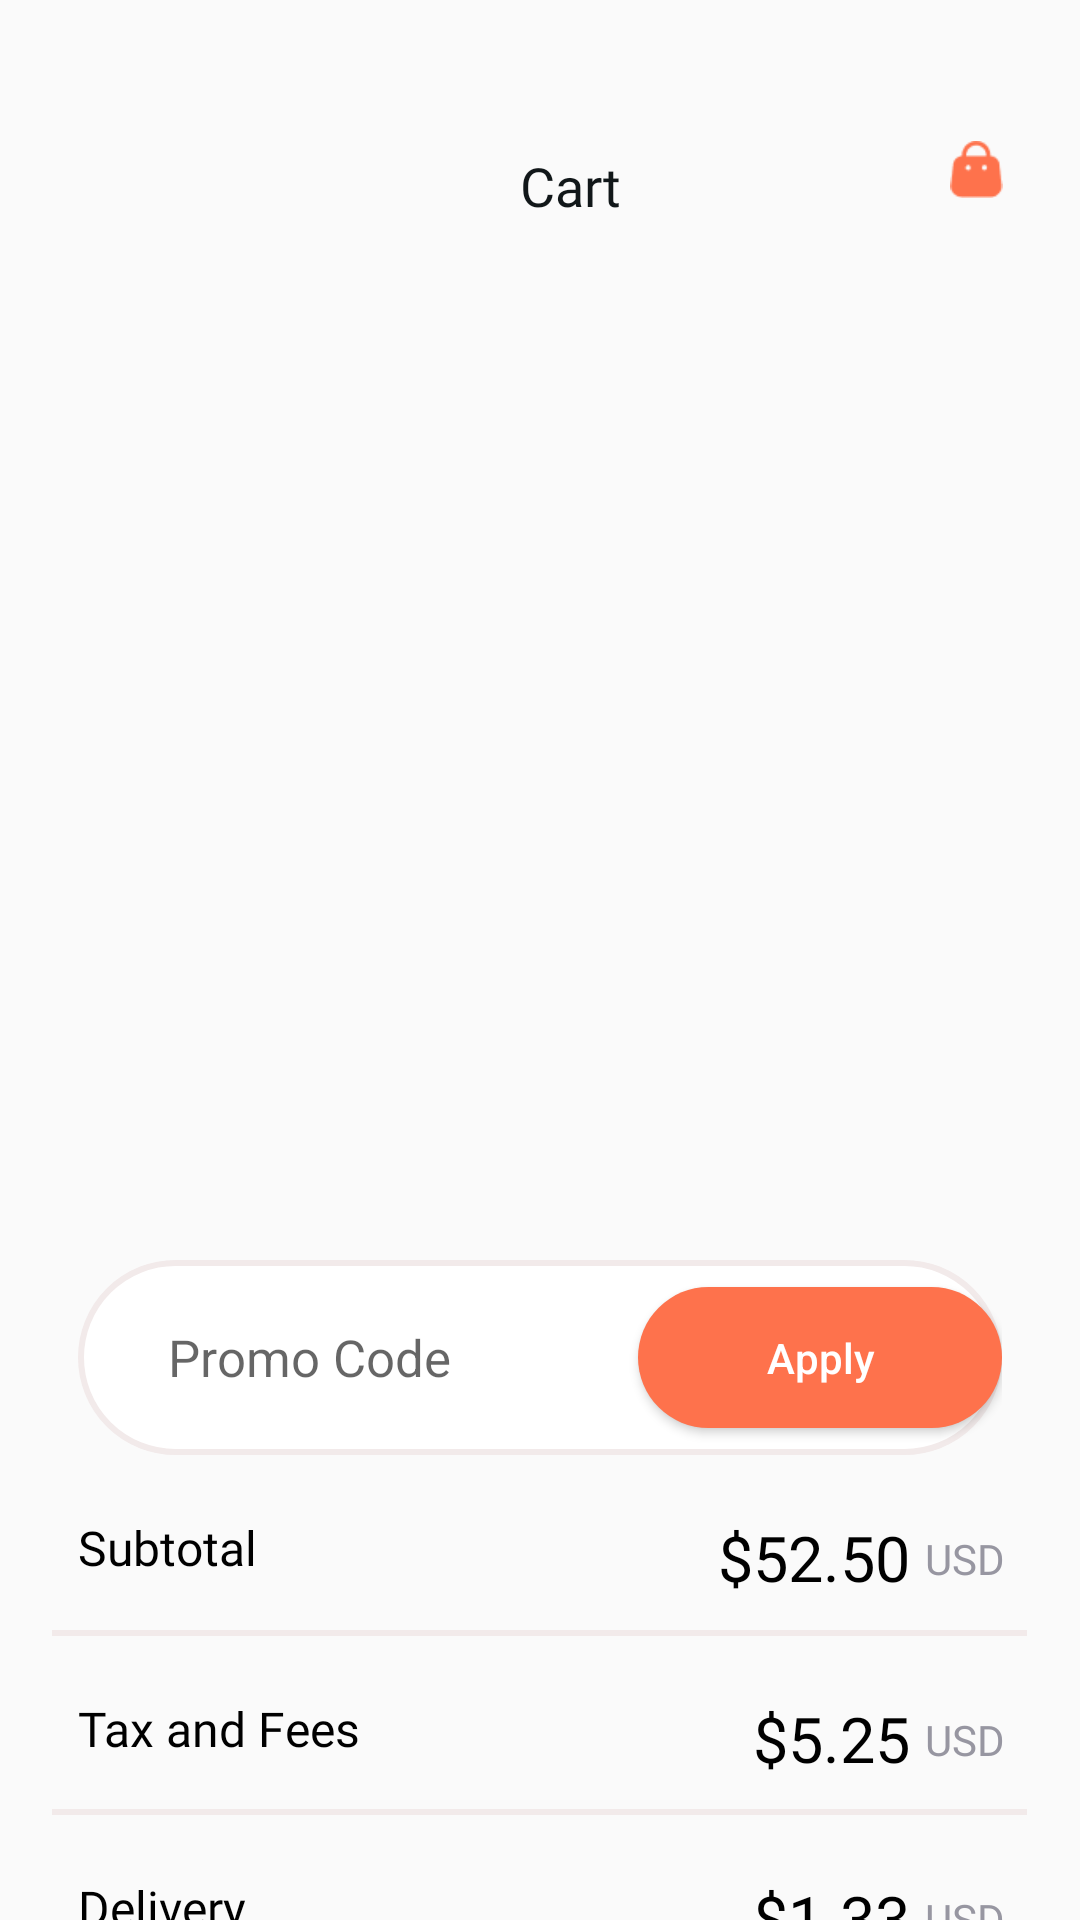

Named icons in this screenshot (1080 x 1920) and their bounding boxes, (x1, y1, x2, y2):
cart: (950, 141, 1003, 198)
